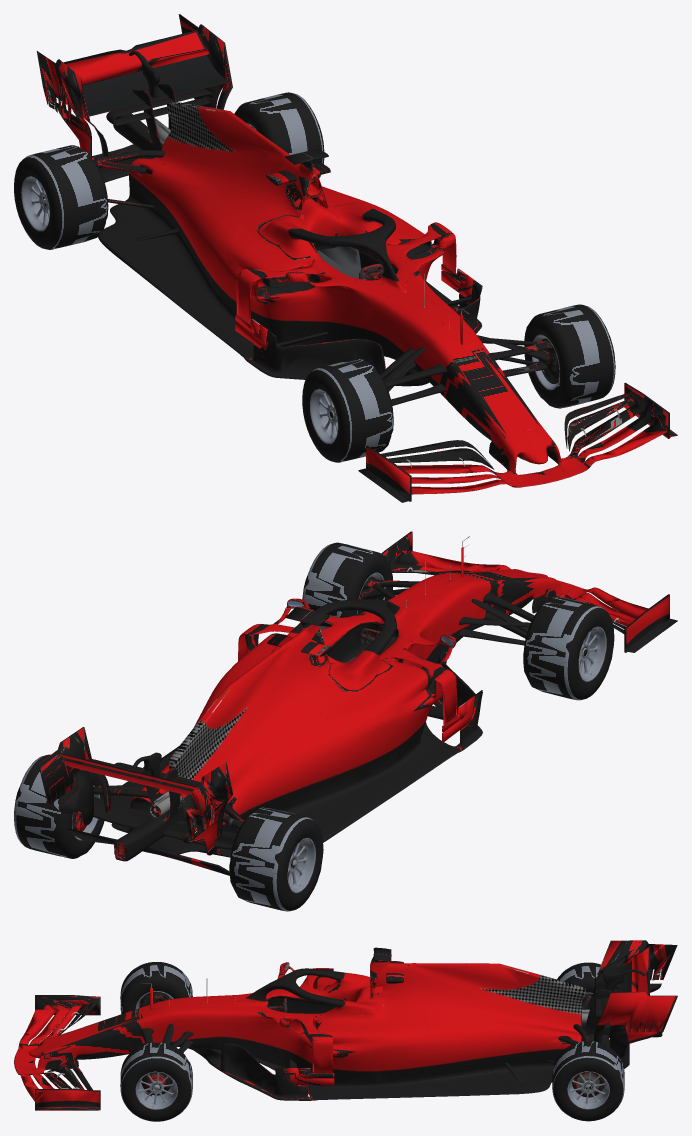
3 views of the same model, one above another, from view 1: azimuth 30°, elevation 25°; view 2: azimuth 150°, elevation 25°; view 3: azimuth 270°, elevation 25° (orthographic). The views are drawn at different scales.
Parts seen in each view (by area): view 1: Main Body, Tire RL.001, object 8, Tire FL, Tire RL, Rear Transmission, object 9, Rim RL.001, Seat; view 2: Main Body, Tire RL.001, object 8, Tire RL, Tire FL, Rear Transmission, object 9, Rim RL.001; view 3: Main Body, Tire RL, Tire FL, object 8, Rim FL, Rim RL, Rear Transmission, Tire RL.001.
Boxes of the visible parts, x1,y1,x2,y2 form: Main Body: (36, 14, 677, 502); Tire RL.001: (14, 145, 108, 249); object 8: (302, 358, 393, 462); Tire FL: (524, 304, 615, 408); Tire RL: (234, 92, 324, 178); Rear Transmission: (40, 126, 254, 213); object 9: (310, 388, 338, 444); Rim RL.001: (21, 176, 49, 231); Seat: (309, 246, 366, 279); Main Body: (38, 531, 677, 875); Tire RL.001: (229, 807, 323, 911); object 8: (523, 596, 614, 700); Tire RL: (14, 754, 104, 858); Tire FL: (302, 542, 392, 629); Rear Transmission: (72, 785, 296, 876); object 9: (578, 626, 606, 681); Rim RL.001: (287, 838, 315, 893); Main Body: (14, 940, 677, 1110); Tire RL: (552, 1041, 624, 1121); Tire FL: (120, 1042, 192, 1121); object 8: (120, 962, 192, 1013); Rim FL: (135, 1071, 177, 1109); Rim RL: (567, 1071, 609, 1109); Rear Transmission: (546, 993, 609, 1097); Tire RL.001: (557, 962, 600, 992).
Bounding box in the file's own units: 2.53 × 1.42 × 7.08.
Materials: 2 (2 with a texture image).
